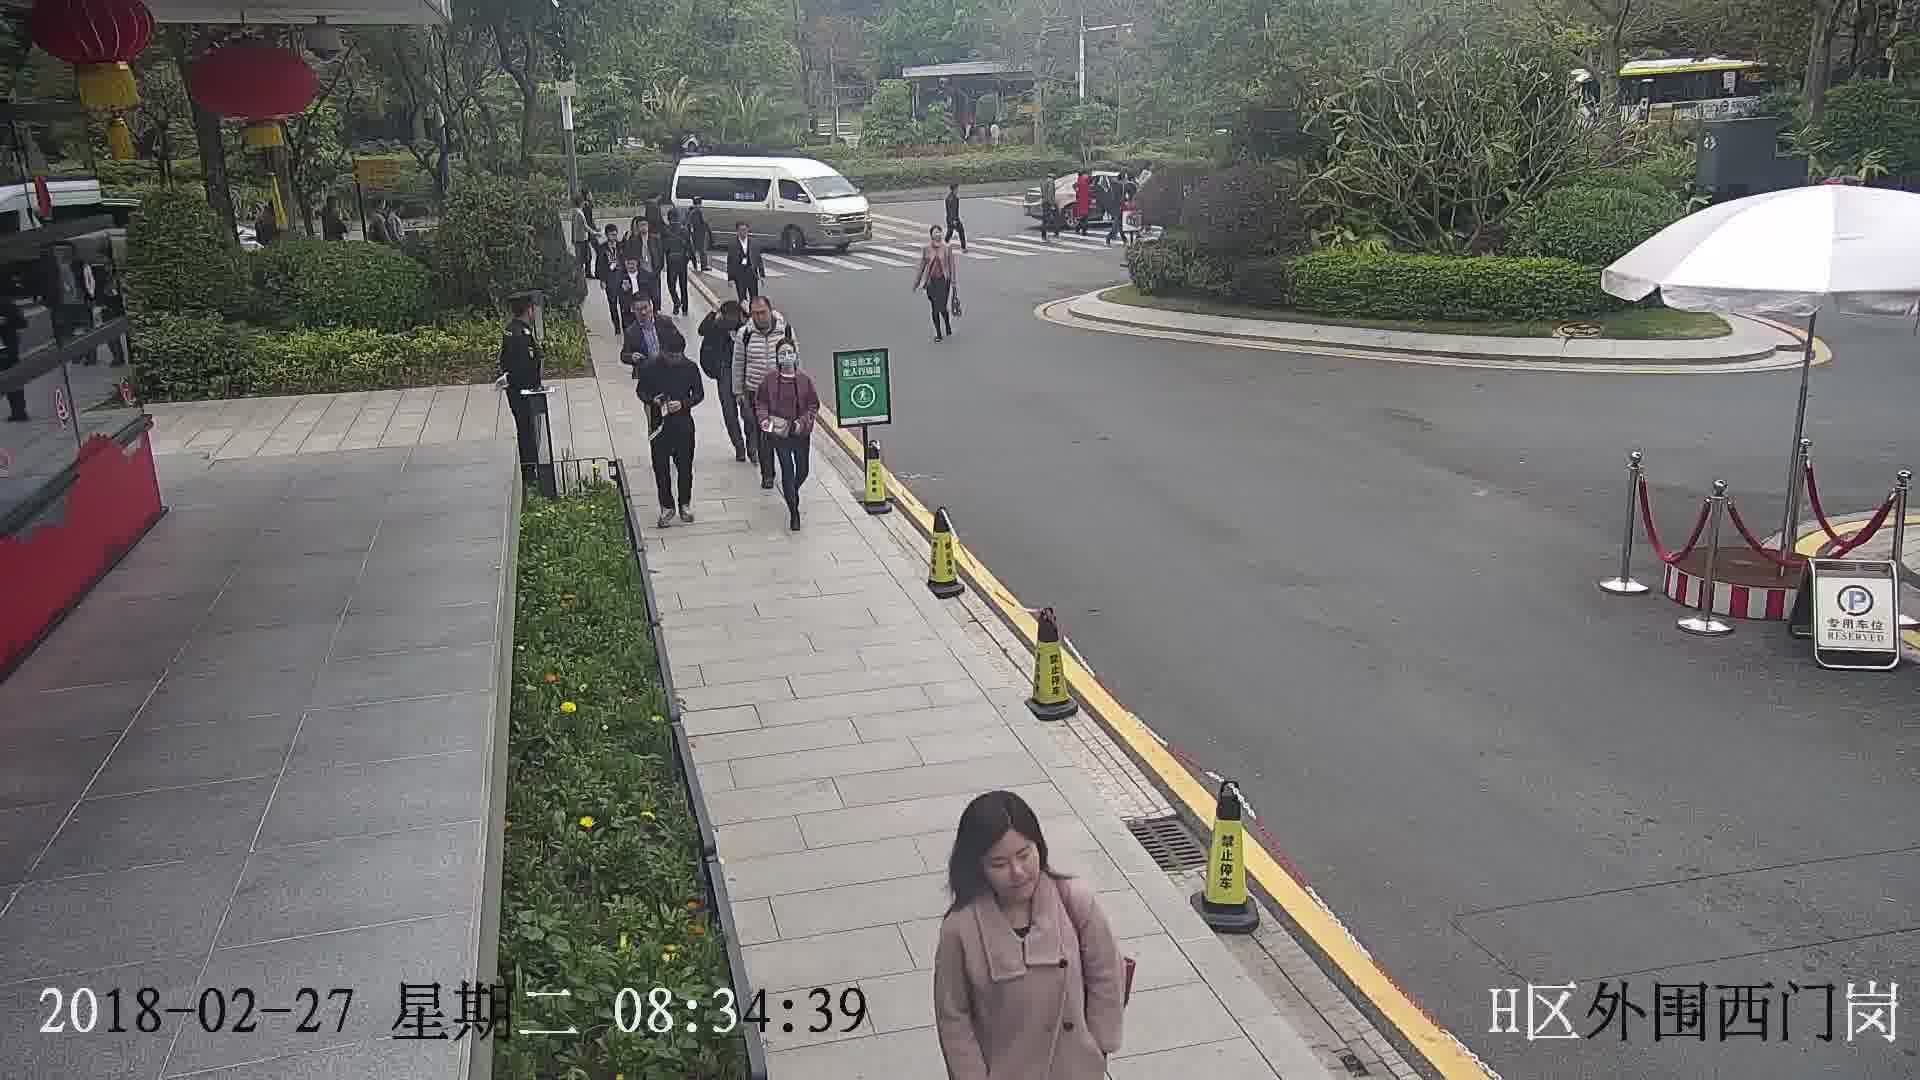face: (970, 827, 1048, 905)
person: (935, 787, 1111, 974), (641, 328, 704, 382), (757, 335, 811, 394), (739, 292, 794, 344), (625, 292, 677, 339), (500, 293, 540, 345), (701, 297, 749, 337), (922, 224, 954, 256), (938, 174, 969, 206), (727, 217, 755, 250), (637, 220, 663, 250), (663, 208, 689, 237), (600, 221, 623, 251), (687, 196, 708, 223), (1039, 165, 1058, 192), (1108, 170, 1126, 195), (1076, 167, 1093, 188), (1135, 160, 1153, 178)
